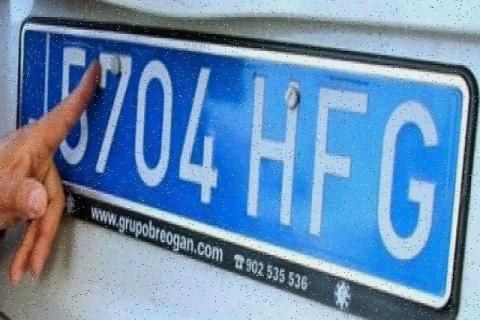LicensePlate: (17, 14, 477, 320)
